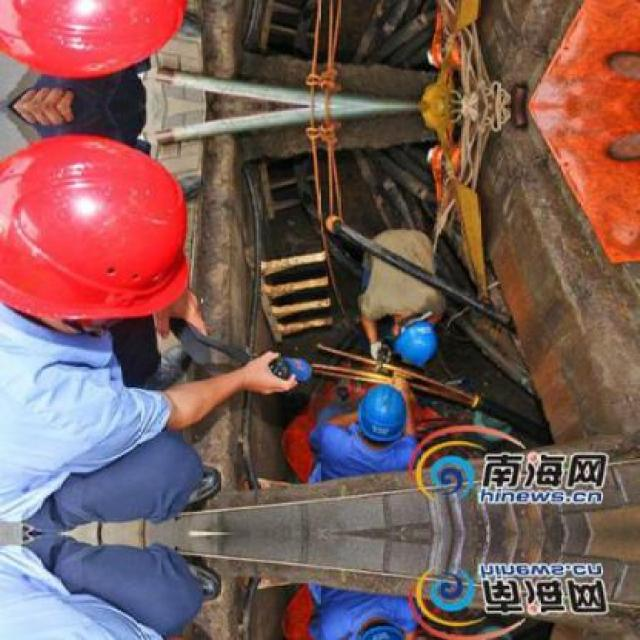helmet: (0, 118, 205, 357), (0, 0, 205, 96), (351, 383, 409, 445), (387, 316, 441, 367), (351, 620, 411, 637)
